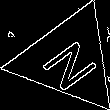N_NE: (33, 28, 102, 91)
